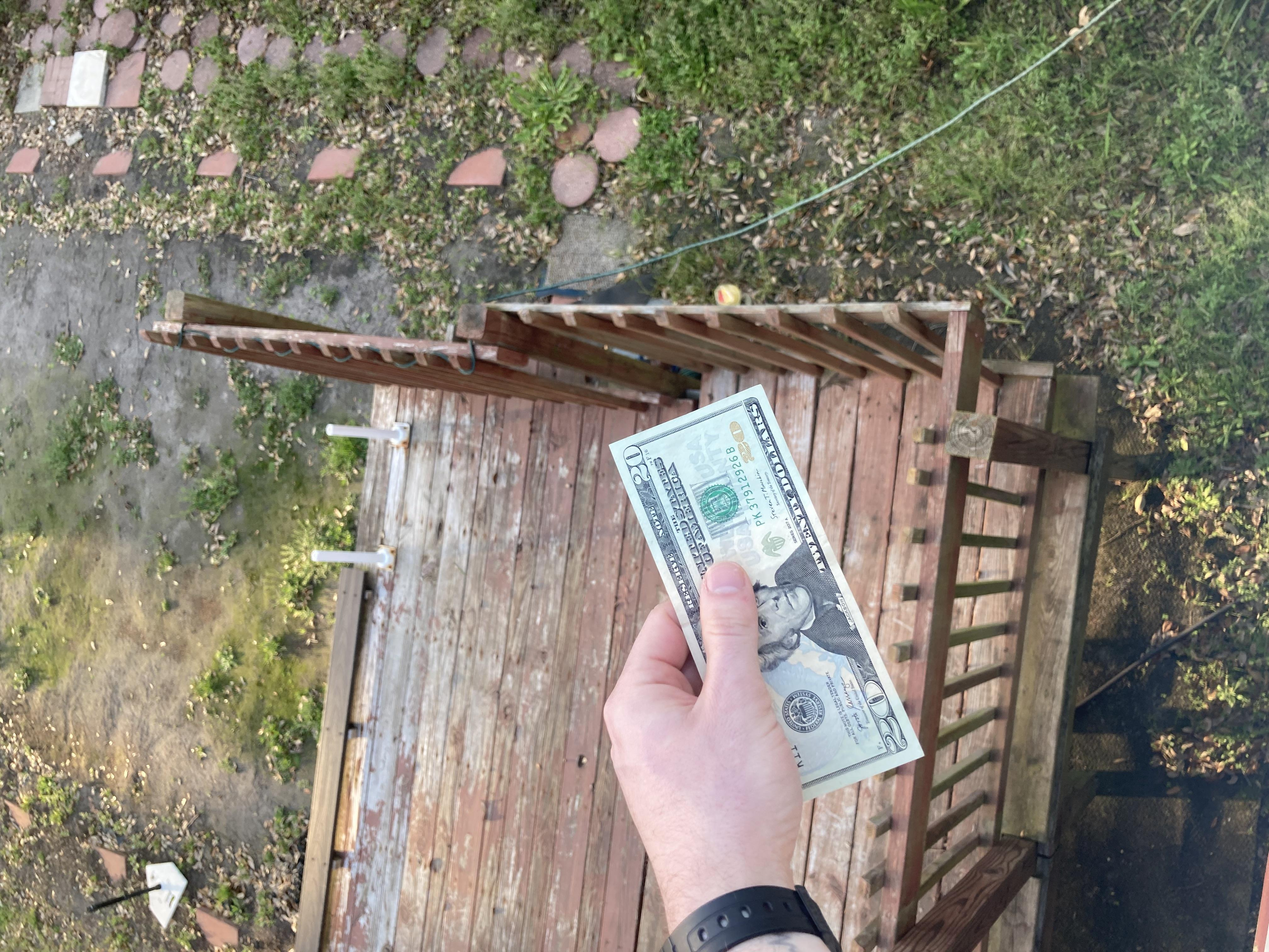twenty-front: (181, 456, 757, 694)
